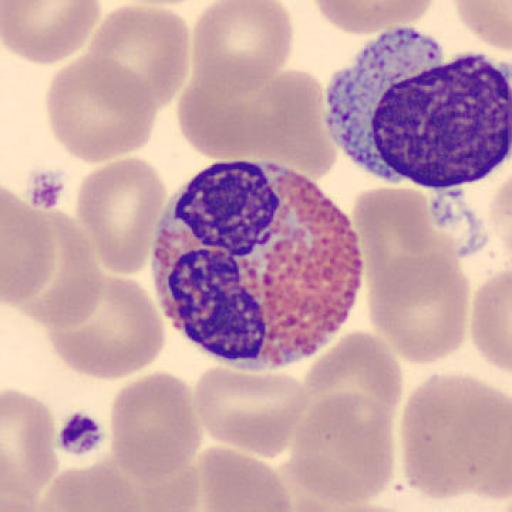RBC: (176, 66, 338, 180), (399, 371, 512, 501), (348, 186, 466, 310), (43, 272, 166, 381), (287, 390, 397, 506), (44, 55, 158, 164), (7, 208, 105, 328), (235, 68, 337, 182), (74, 155, 168, 278), (88, 2, 192, 112), (367, 252, 469, 364), (193, 364, 309, 458), (301, 329, 404, 434), (108, 369, 203, 480), (192, 0, 294, 99), (33, 453, 202, 512), (443, 378, 512, 502), (1, 387, 59, 509), (194, 444, 294, 512), (2, 0, 103, 66), (2, 192, 55, 306), (35, 462, 153, 512), (271, 455, 371, 512), (451, 0, 512, 82), (312, 0, 438, 37), (122, 454, 201, 512), (471, 266, 512, 374), (480, 169, 512, 291), (451, 0, 512, 54)
WBC: (150, 159, 366, 370), (320, 50, 512, 191)
